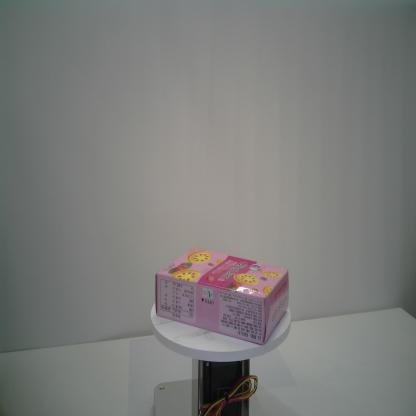Dessert: (153, 247, 290, 346)
